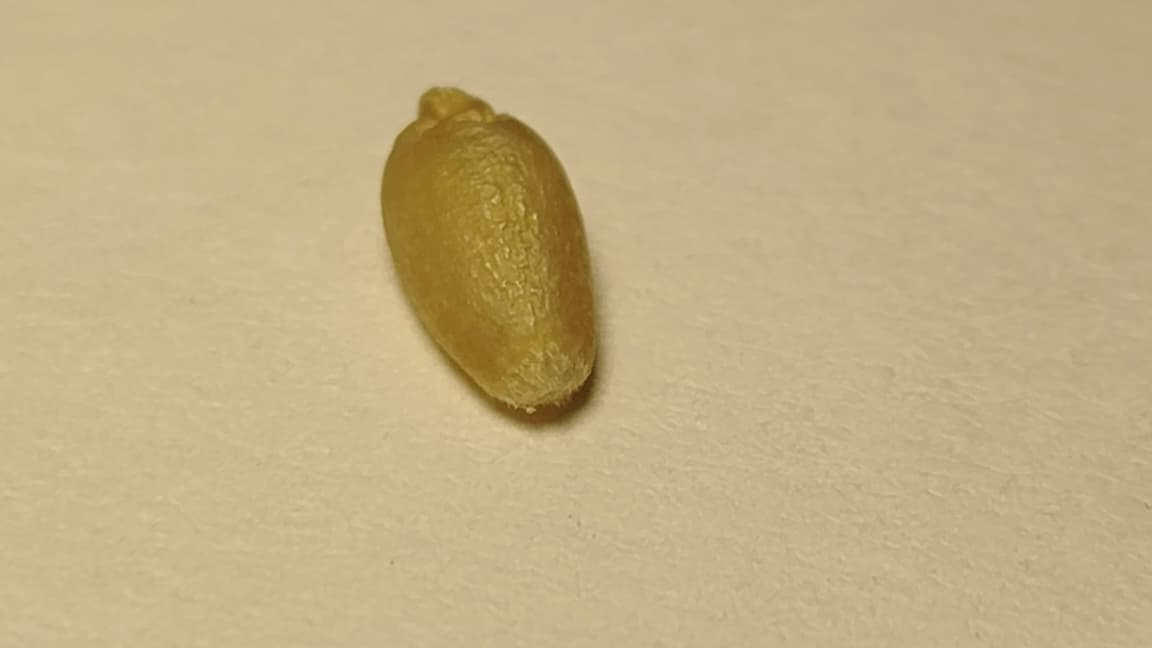healthy: (382, 87, 596, 411)
